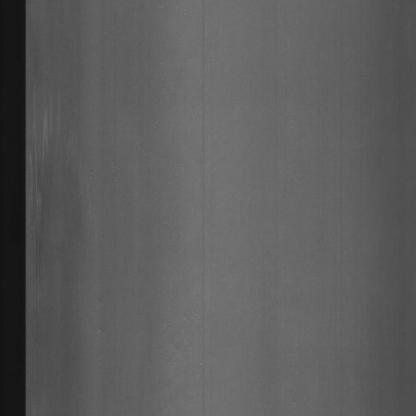silk_spot: (28, 76, 63, 256)
